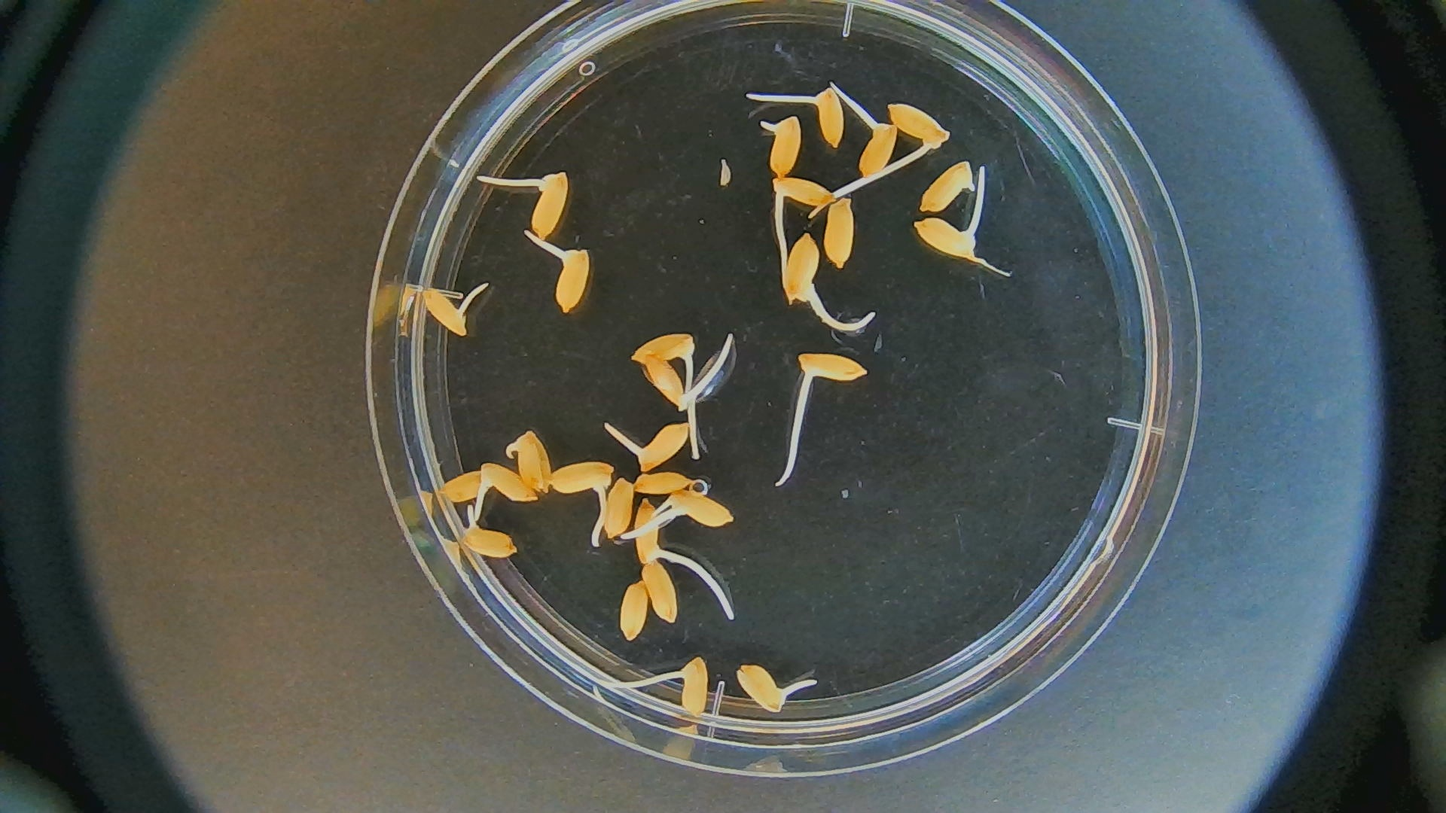no: (917, 160, 974, 212), (642, 561, 679, 625), (827, 193, 857, 271), (605, 475, 634, 543), (619, 580, 649, 641), (436, 470, 491, 500), (634, 471, 691, 495)
yes: (915, 215, 978, 262), (528, 172, 571, 240), (735, 664, 795, 711), (635, 422, 690, 472), (888, 104, 947, 150), (795, 349, 868, 386), (553, 242, 590, 314), (785, 232, 821, 306), (760, 114, 801, 178), (512, 432, 554, 492), (859, 113, 896, 179), (633, 498, 672, 560), (647, 354, 691, 408), (477, 464, 538, 502), (552, 462, 613, 499), (673, 489, 734, 526), (630, 333, 696, 367), (424, 290, 471, 336), (459, 522, 517, 558), (772, 176, 834, 208), (813, 88, 844, 150), (676, 657, 707, 716)
